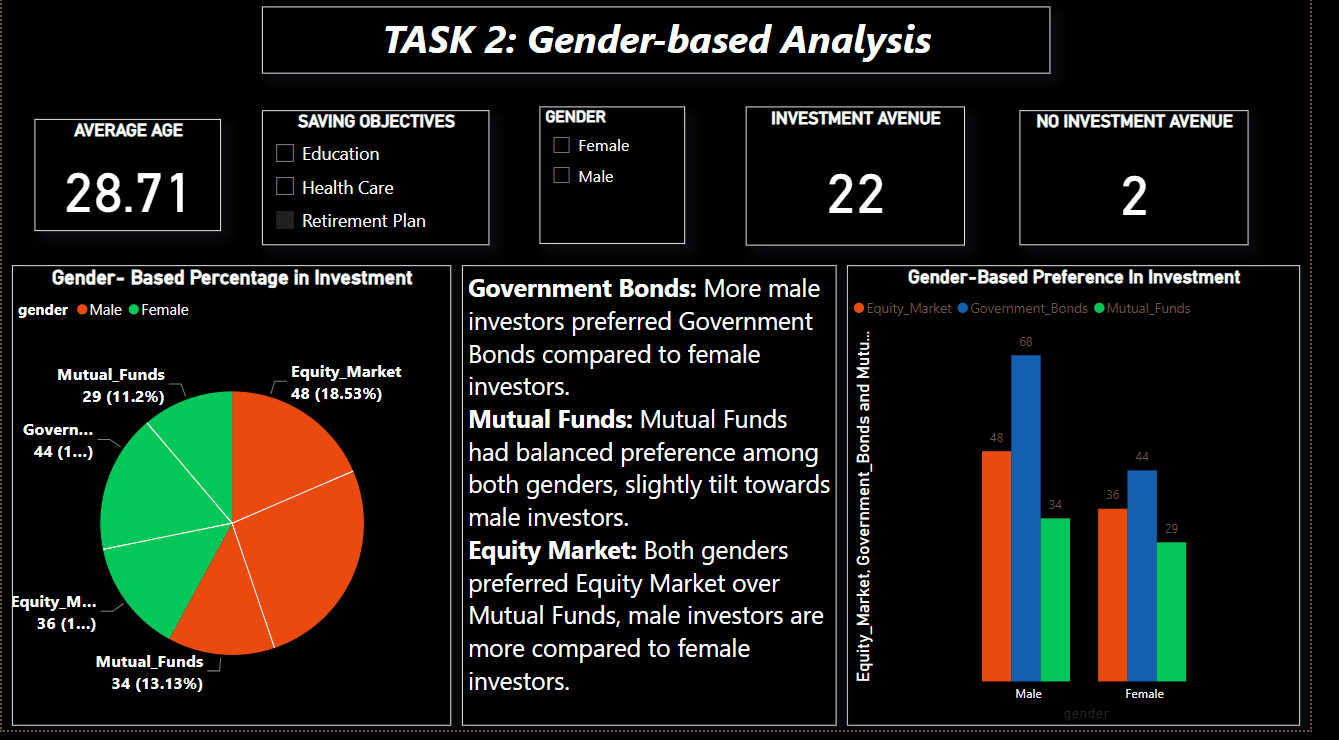

The dashboard page shown, as its layout file describes it:
{"tool":"powerbi","page":{"name":"Page 1","canvas":[1280,720],"ordinal":0},"visuals":[{"type":"textbox","box":[253.9,12.3,771.2,65.9],"z":0},{"type":"card","title":"AVERAGE AGE","fields":{"Values":["Data_set 2.Avg Age"]},"box":[31.6,122.1,182.5,109.8],"z":1000},{"type":"slicer","title":"GENDER","fields":{"Values":["Data_set 2.gender"]},"box":[525.6,109.8,142.7,134.5],"z":2000},{"type":"slicer","title":"SAVING OBJECTIVES","fields":{"Values":["Data_set 2.What are your savings objectives?"]},"box":[253.9,113.9,222.3,131.7],"z":3000},{"type":"pieChart","title":"Gender- Based Percentage in Investment","fields":{"Category":["Data_set 2.gender"],"Y":["Sum(Data_set 2.Equity_Market)","Sum(Data_set 2.Government_Bonds)","Sum(Data_set 2.Mutual_Funds)"]},"box":[9.6,264.8,429.5,450.1],"z":4000},{"type":"clusteredColumnChart","title":"Gender-Based Preference In Investment","fields":{"Category":["Data_set 2.gender"],"Y":["Sum(Data_set 2.Equity_Market)","Sum(Data_set 2.Government_Bonds)","Sum(Data_set 2.Mutual_Funds)"]},"box":[826.1,264.8,443.2,450.1],"z":5000},{"type":"card","title":"INVESTMENT AVENUE","fields":{"Values":["Data_set 2.Investment Avenue"]},"box":[727.3,109.8,214.1,135.8],"z":6000},{"type":"card","title":"NO INVESTMENT AVENUE","fields":{"Values":["Data_set 2.No Investment Avenue"]},"box":[994.9,113.9,223.7,131.7],"z":7000},{"type":"textbox","box":[450.1,264.8,366.4,450.1],"z":8000}]}

Visuals, with their boxes in screenshot pixels (x1, y1, x2, y2), scaled from the page's 1280x720 canvas onto the 1339x740 screenshot:
textbox: {"x1": 266, "y1": 13, "x2": 1072, "y2": 80}
"AVERAGE AGE" card: {"x1": 33, "y1": 125, "x2": 224, "y2": 238}
"GENDER" slicer: {"x1": 550, "y1": 113, "x2": 699, "y2": 251}
"SAVING OBJECTIVES" slicer: {"x1": 266, "y1": 117, "x2": 498, "y2": 252}
"Gender- Based Percentage in Investment" pieChart: {"x1": 10, "y1": 272, "x2": 459, "y2": 735}
"Gender-Based Preference In Investment" clusteredColumnChart: {"x1": 864, "y1": 272, "x2": 1328, "y2": 735}
"INVESTMENT AVENUE" card: {"x1": 761, "y1": 113, "x2": 985, "y2": 252}
"NO INVESTMENT AVENUE" card: {"x1": 1041, "y1": 117, "x2": 1275, "y2": 252}
textbox: {"x1": 471, "y1": 272, "x2": 854, "y2": 735}
